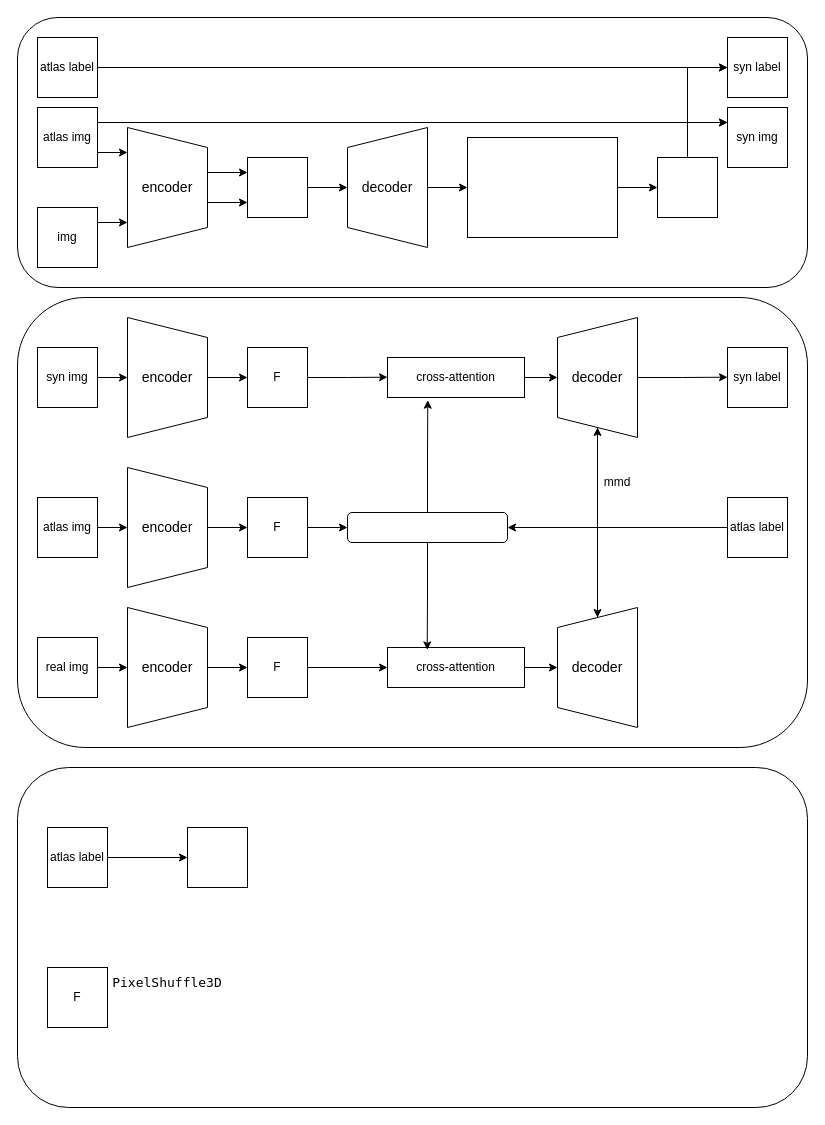
Some shapes in this 825 by 1125 pixel diagram are drawn without their labels. The centre of each missing label's shape, as x and y in pixels:
concat: the point at 277,187
flow: the point at 687,187
foreground token: the point at 217,857
SpatialTransformer: the point at 542,187
模块A: the point at 427,527
